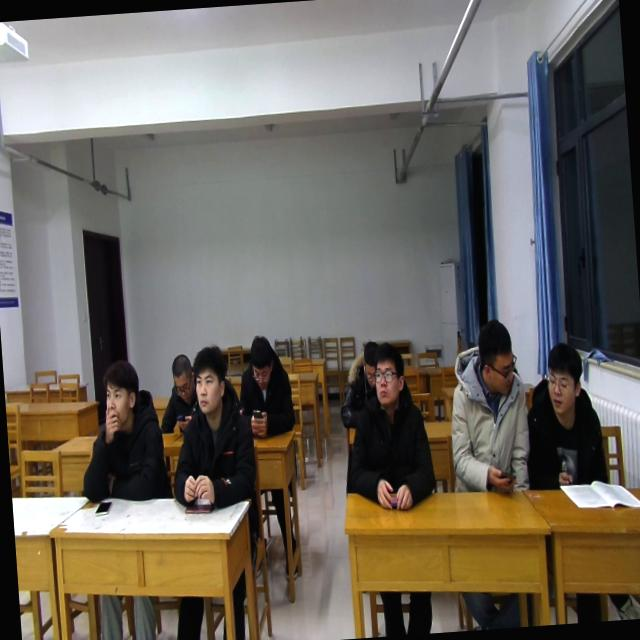bow: (230, 331, 297, 441), (334, 338, 384, 428)
down: (246, 330, 275, 389), (167, 350, 197, 403), (356, 337, 382, 390)
lookup: (540, 336, 586, 422), (98, 352, 142, 437), (190, 338, 232, 421), (369, 342, 408, 409)
sit: (338, 336, 440, 514), (441, 316, 534, 500), (162, 341, 260, 511), (74, 356, 168, 508), (520, 334, 610, 490), (153, 350, 200, 432)
